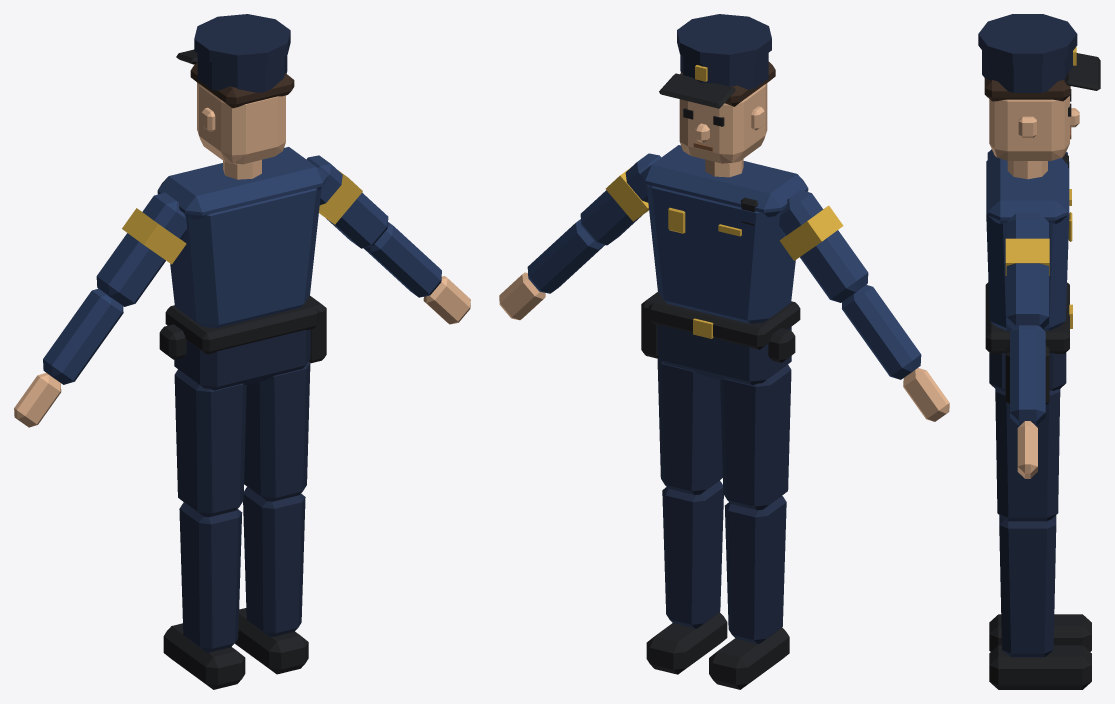
File: PD_PoliceOfficer.fbx
3 renders of one model, left to right at view 1: azimuth 30°, elevation 25°; view 2: azimuth 150°, elevation 25°; view 3: azimuth 270°, elevation 25°, orthographic.
Parts seen in each view (by area): view 1: PD_PoliceOfficer_Body; view 2: PD_PoliceOfficer_Body; view 3: PD_PoliceOfficer_Body.
Boxes of the visible parts, bbox=[...] form: PD_PoliceOfficer_Body: bbox=[14, 14, 470, 689]; PD_PoliceOfficer_Body: bbox=[499, 14, 949, 689]; PD_PoliceOfficer_Body: bbox=[978, 14, 1100, 689].
Bounding box in the file's own units: 1.43 × 1.91 × 0.3339.
